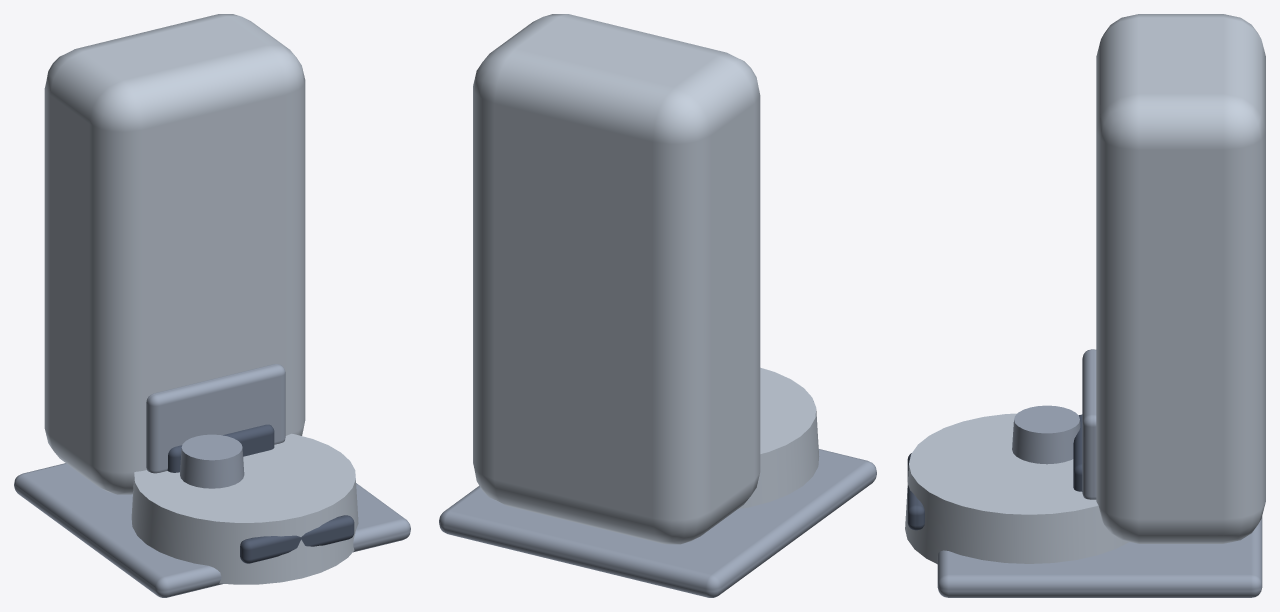
Rendered from robotvacuum.glb.
3 renders of one model, left to right at view 1: azimuth 30°, elevation 25°; view 2: azimuth 150°, elevation 25°; view 3: azimuth 270°, elevation 25°, orthographic. The views are drawn at different scales.
Visible parts, largest first — view 1: robotvacuum; view 2: robotvacuum; view 3: robotvacuum.
Part boxes in pixels (x1,y1,x2,y2): robotvacuum: (14,14,410,597); robotvacuum: (439,14,876,597); robotvacuum: (905,14,1265,597).
Bounding box in the file's own units: 0.451 × 0.7475 × 0.511.
